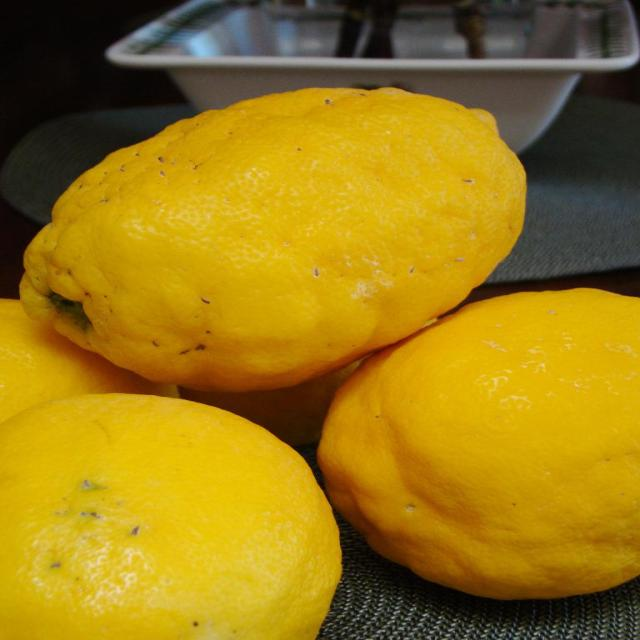Lemon: (0, 81, 639, 639)
